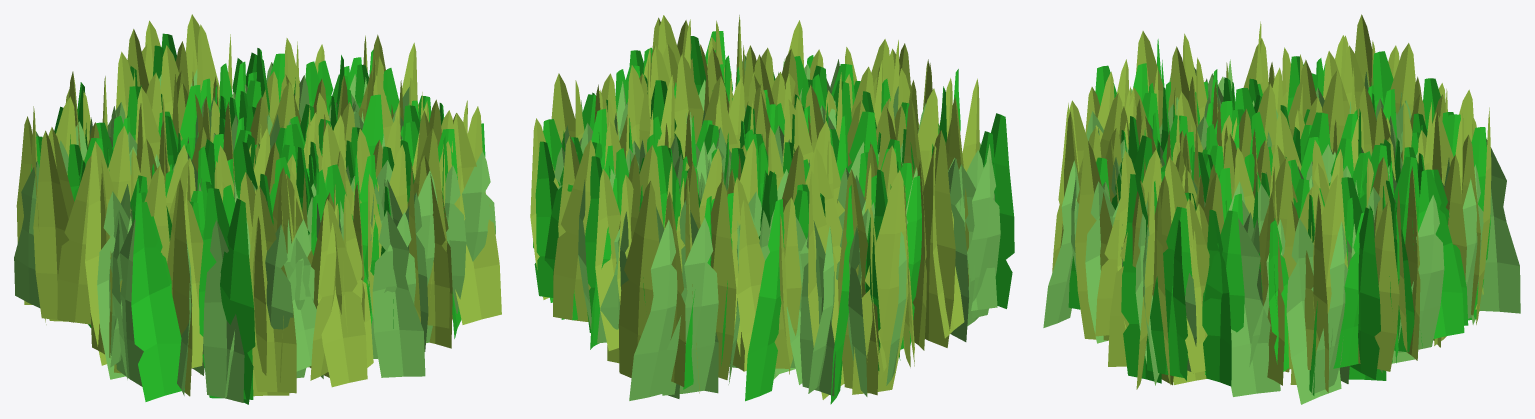
The model's file is grass.glb.
3 views of the same model, side by side, from view 1: azimuth 30°, elevation 25°; view 2: azimuth 150°, elevation 25°; view 3: azimuth 270°, elevation 25° (orthographic). The views are drawn at different scales.
Visible parts, largest first — view 1: Circle; view 2: Circle; view 3: Circle.
Boxes of the visible parts, <box> form: Circle: <box>14,14,501,404</box>; Circle: <box>530,15,1014,404</box>; Circle: <box>1043,14,1520,404</box>.
Bounding box in the file's own units: 11.12 × 6.43 × 12.41.
